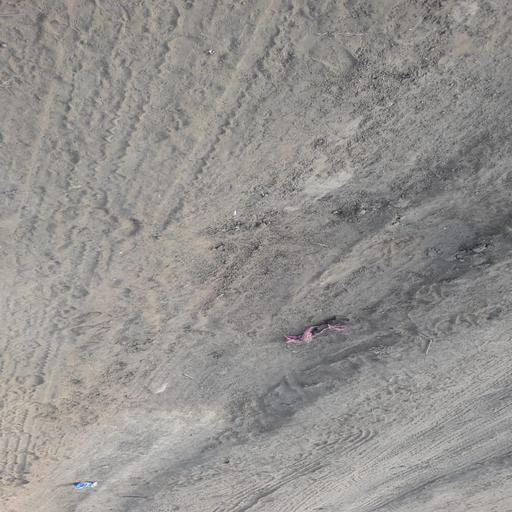vehicle_track: (0, 0, 314, 512)
